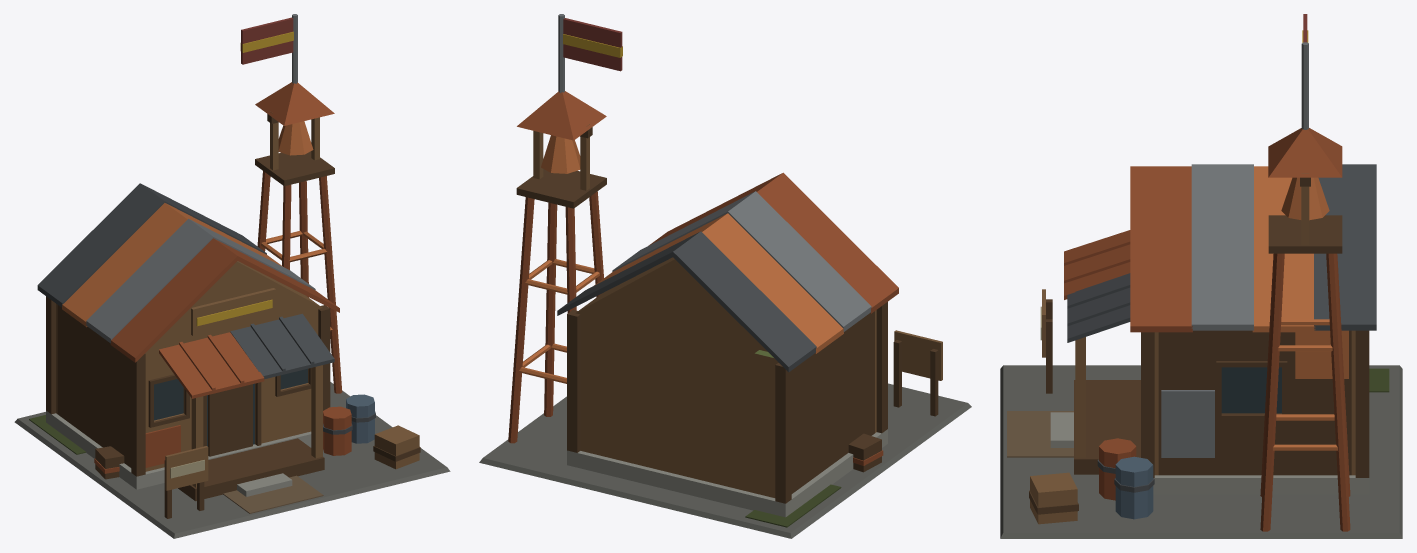
Rendered from town_hall_l1.glb.
3 renders of one model, left to right at view 1: azimuth 30°, elevation 25°; view 2: azimuth 150°, elevation 25°; view 3: azimuth 270°, elevation 25°, orthographic. The views are drawn at different scales.
Visible parts, largest first — view 1: town_hall_structure, town_hall_roof, town_hall_props; view 2: town_hall_structure, town_hall_roof, town_hall_props; view 3: town_hall_structure, town_hall_roof, town_hall_props.
Boxes of the visible parts, x1,y1,x2,y2 form: town_hall_structure: (14, 14, 450, 538); town_hall_roof: (37, 82, 339, 398); town_hall_props: (94, 17, 420, 518); town_hall_structure: (479, 14, 971, 538); town_hall_roof: (517, 91, 898, 372); town_hall_props: (541, 18, 942, 472); town_hall_structure: (1000, 42, 1402, 538); town_hall_roof: (1064, 128, 1376, 342); town_hall_props: (1029, 14, 1348, 524).
Size of the model in its own units: 6 by 7.8 by 6.
